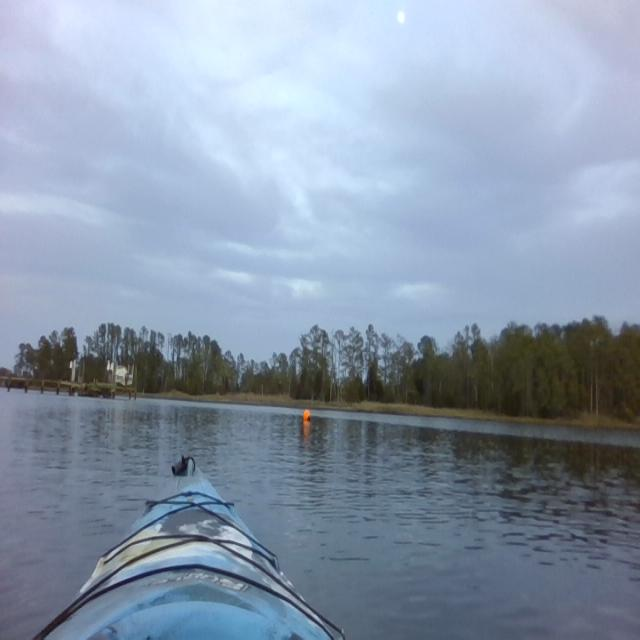Buoy: (302, 408, 313, 426)
